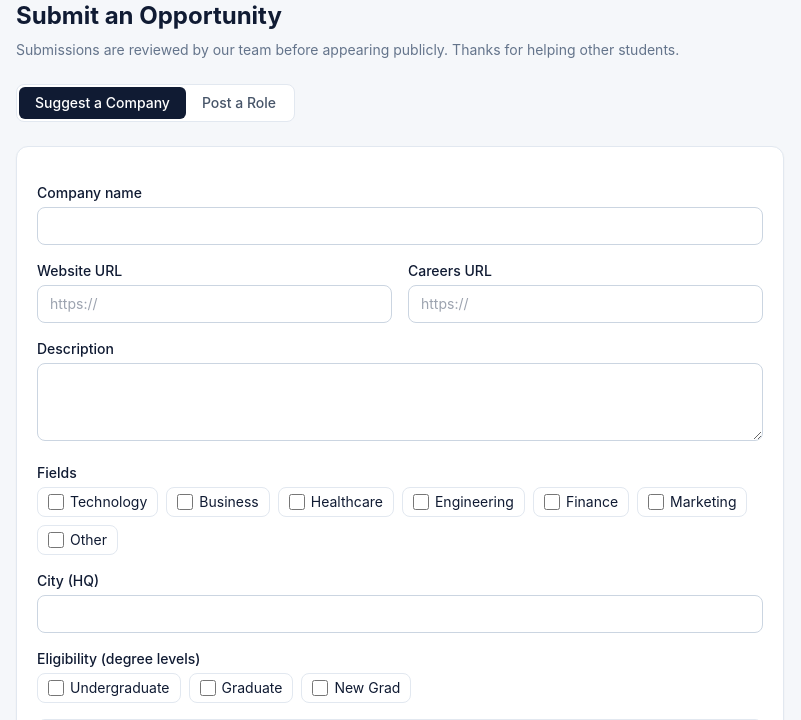
it: Submit page — company form › submits a valid company and shows success
Step 1. Type "Acme" into the field labelled "Company name" → (400, 226), box [37, 207, 763, 245]
Step 2. Type "https://acme.test" into the field labelled "Website URL" → (214, 304), box [37, 285, 392, 323]
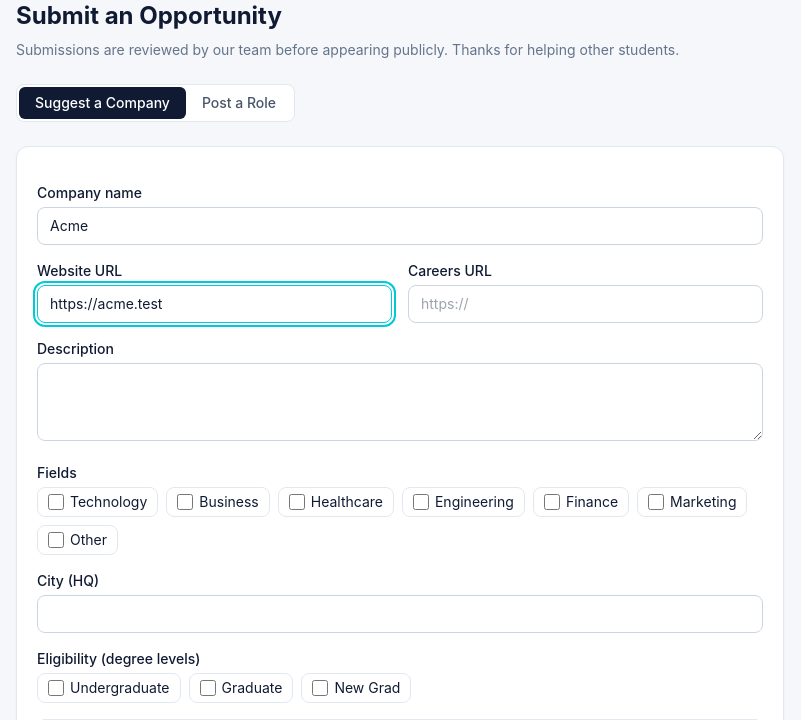
Step 3. Type "https://acme.test/careers" into the field labelled "Careers URL" → (586, 304), box [408, 285, 763, 323]
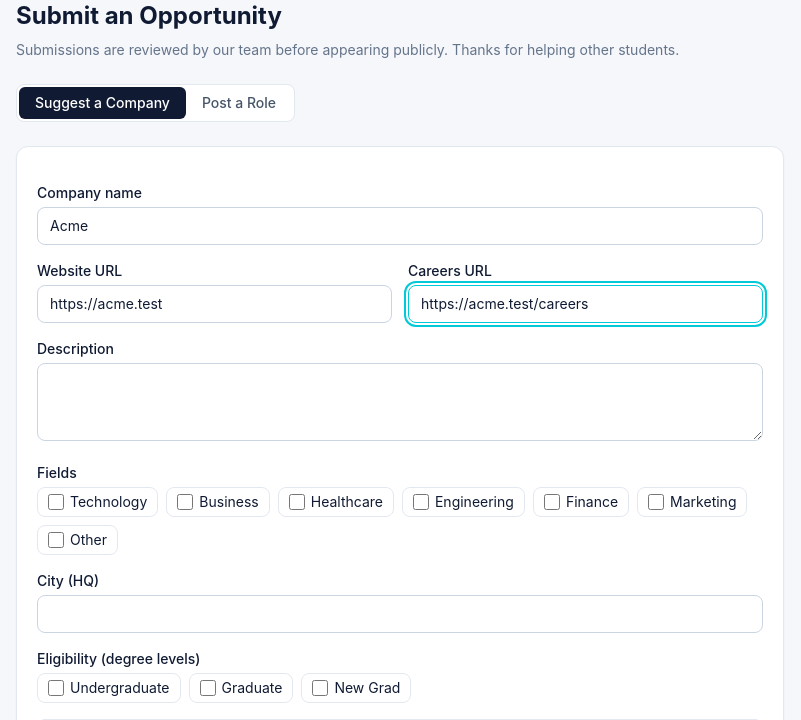
Step 4. Type "A detailed company description." into the text box labelled "Description" → (400, 402), box [37, 363, 763, 441]
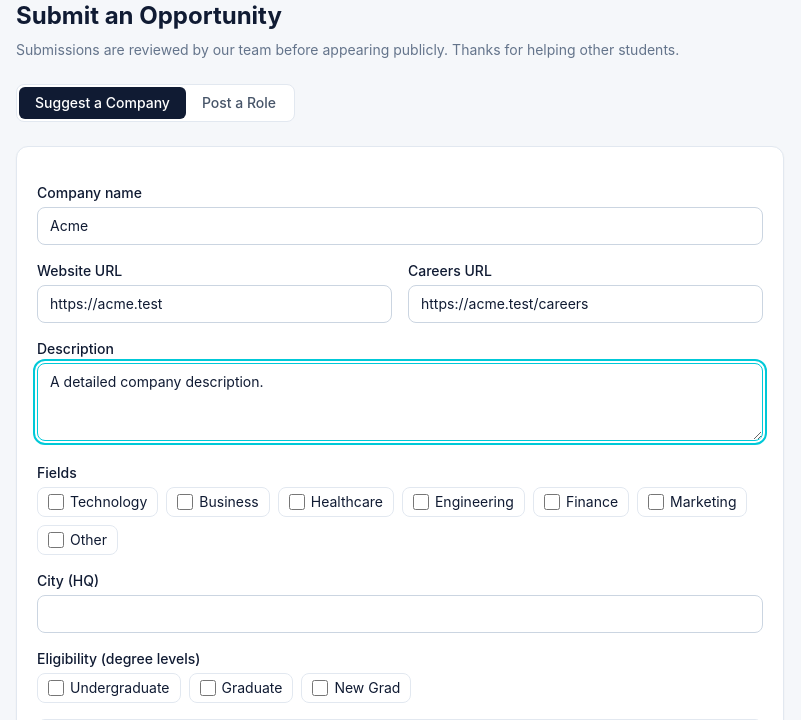
Step 5. Click the checkbox labelled "Technology" → (56, 502), box [48, 494, 64, 510]
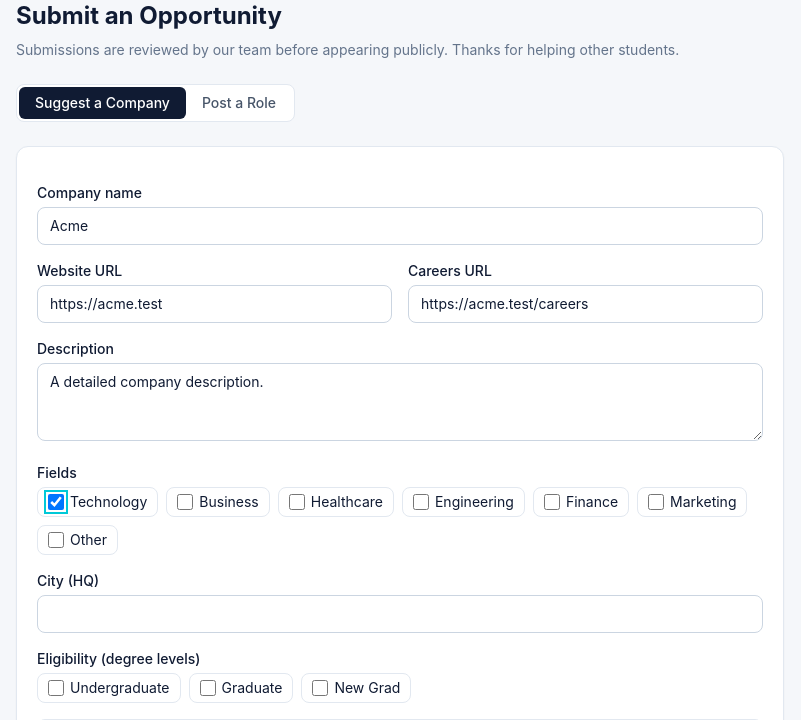
Step 6. Click the checkbox labelled "Undergraduate" → (56, 688), box [48, 680, 64, 696]
(page scrolled)
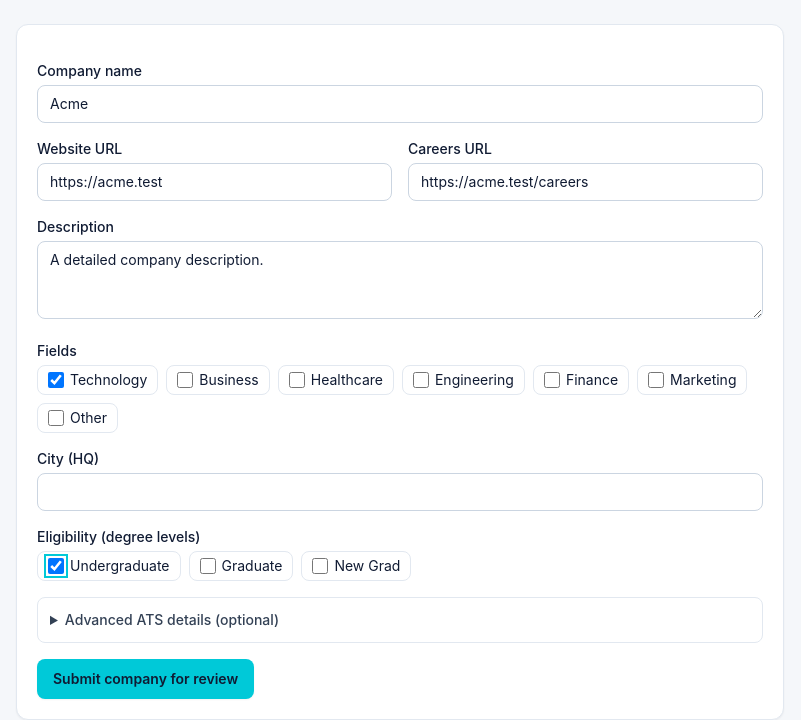
Step 7. Click the button "Submit company for review" → (146, 679), box [37, 659, 254, 699]
(page scrolled)
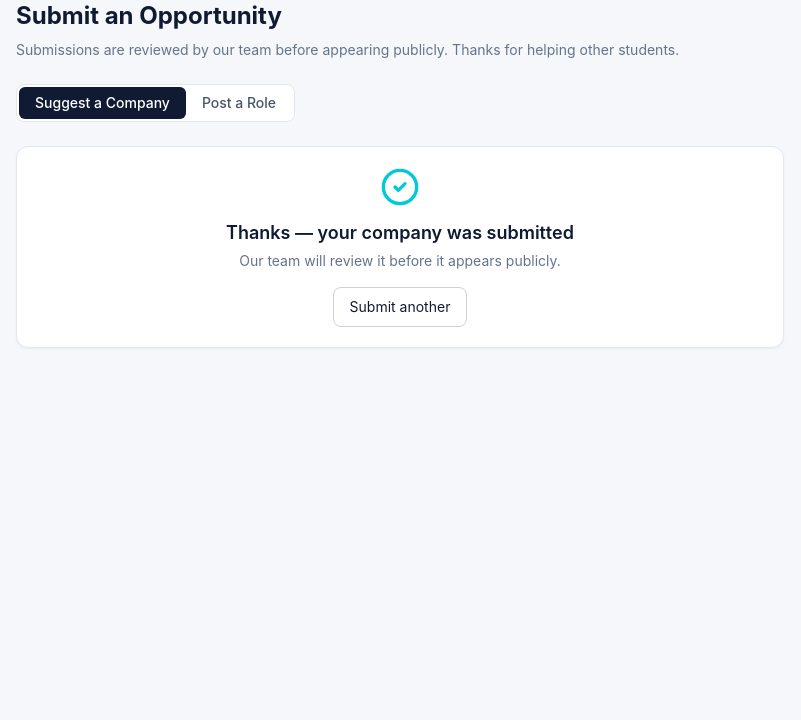
expect the heading "Thanks — your company was submitted" is shown: met, box [226, 222, 574, 243]
